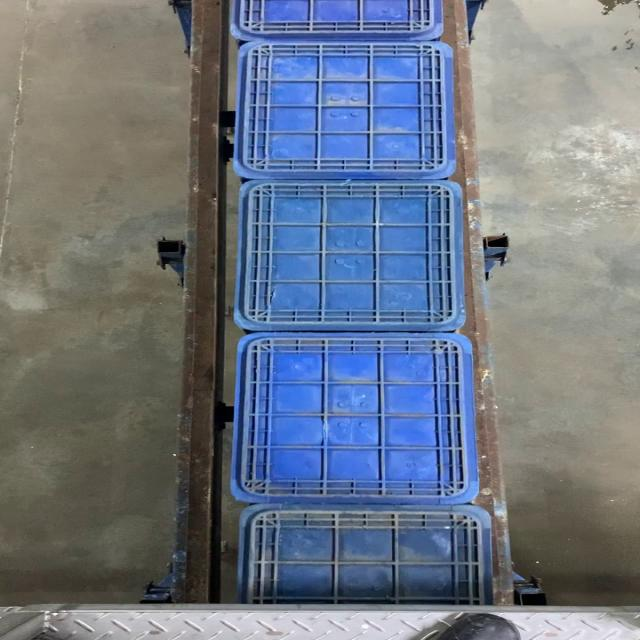Box: (231, 333, 482, 501), (234, 180, 466, 332), (232, 41, 460, 179)
